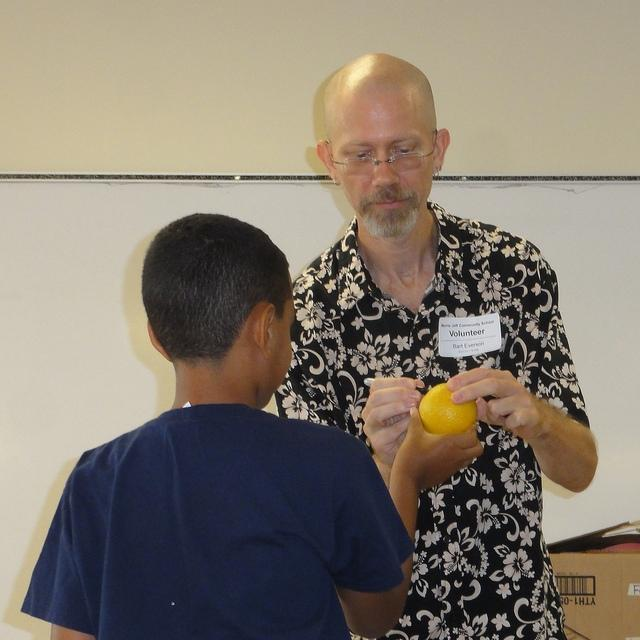orange: (419, 382, 478, 434)
